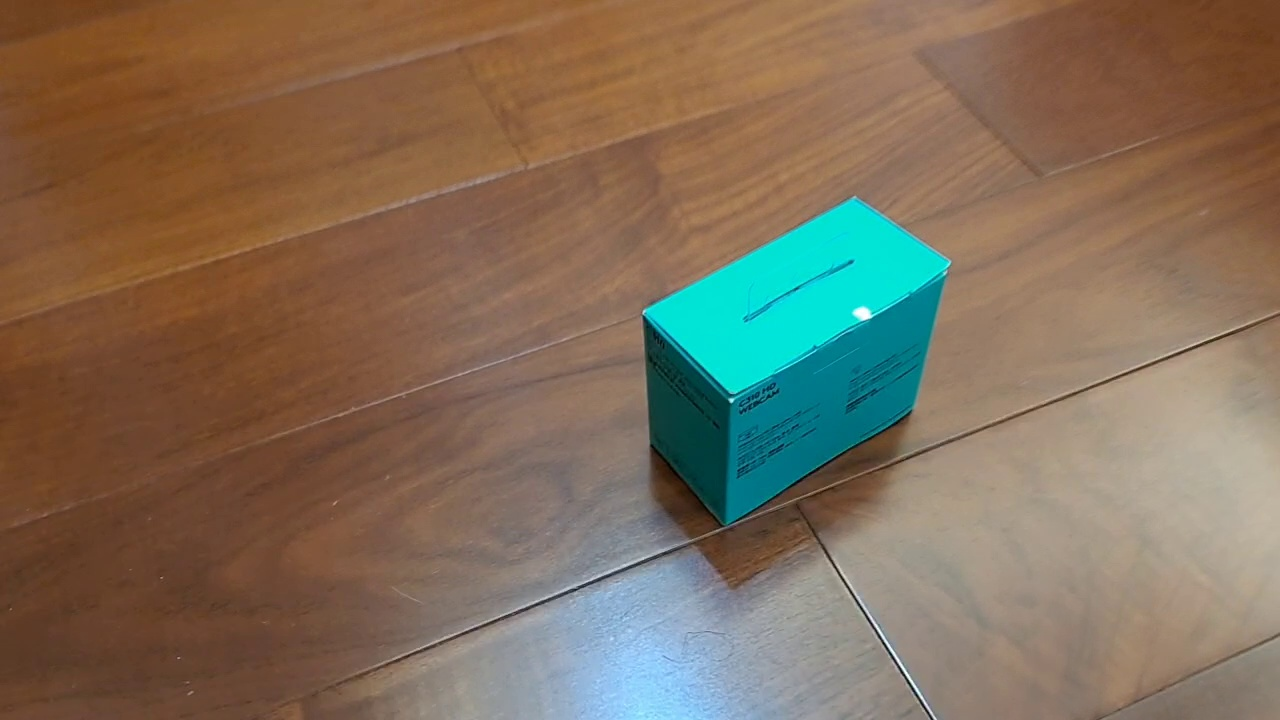webcam: (639, 194, 953, 529)
